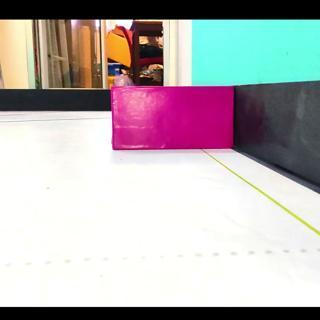xparking: (114, 85, 232, 148)
